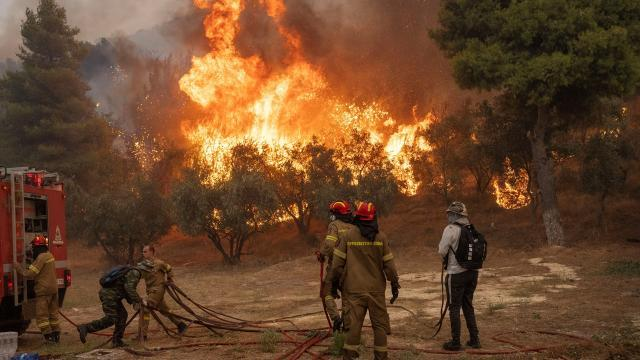fire: (0, 0, 576, 240), (169, 0, 427, 247)
